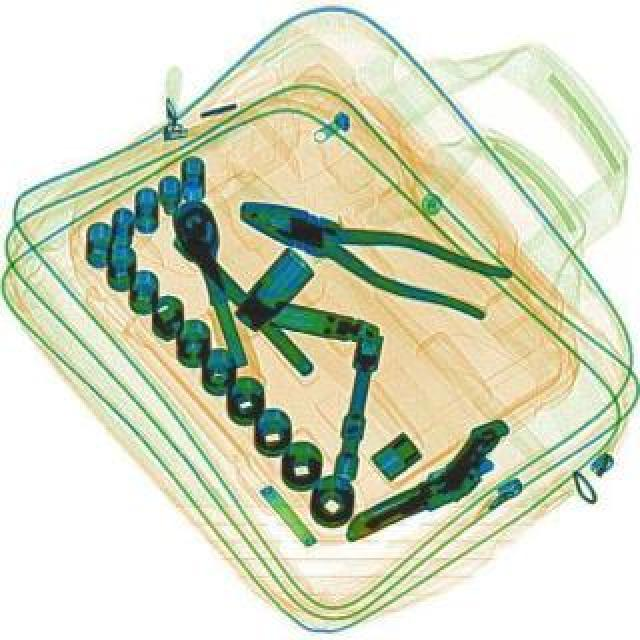gun: (322, 414, 528, 540)
wrench: (226, 182, 512, 322)
